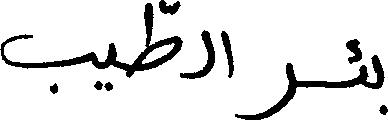X: (0, 29, 89, 98), (134, 0, 180, 81), (235, 58, 293, 119), (182, 25, 213, 83), (374, 50, 387, 119), (222, 26, 232, 82), (110, 38, 114, 94), (362, 60, 364, 90)
